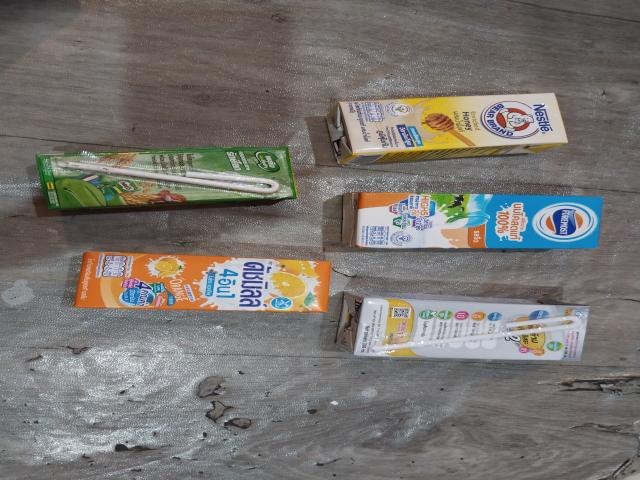drink_box: (337, 287, 606, 368), (67, 250, 336, 318), (326, 188, 598, 255), (324, 93, 588, 160), (38, 146, 293, 214)
